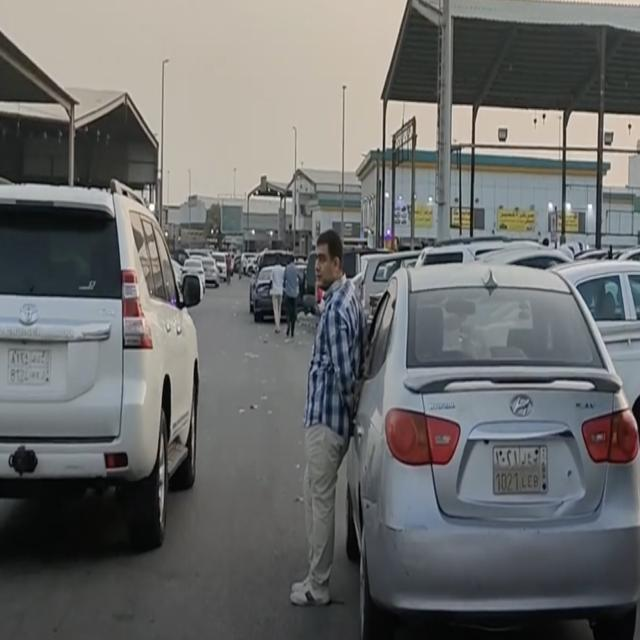license_plate: (492, 441, 548, 502), (4, 346, 53, 392)
